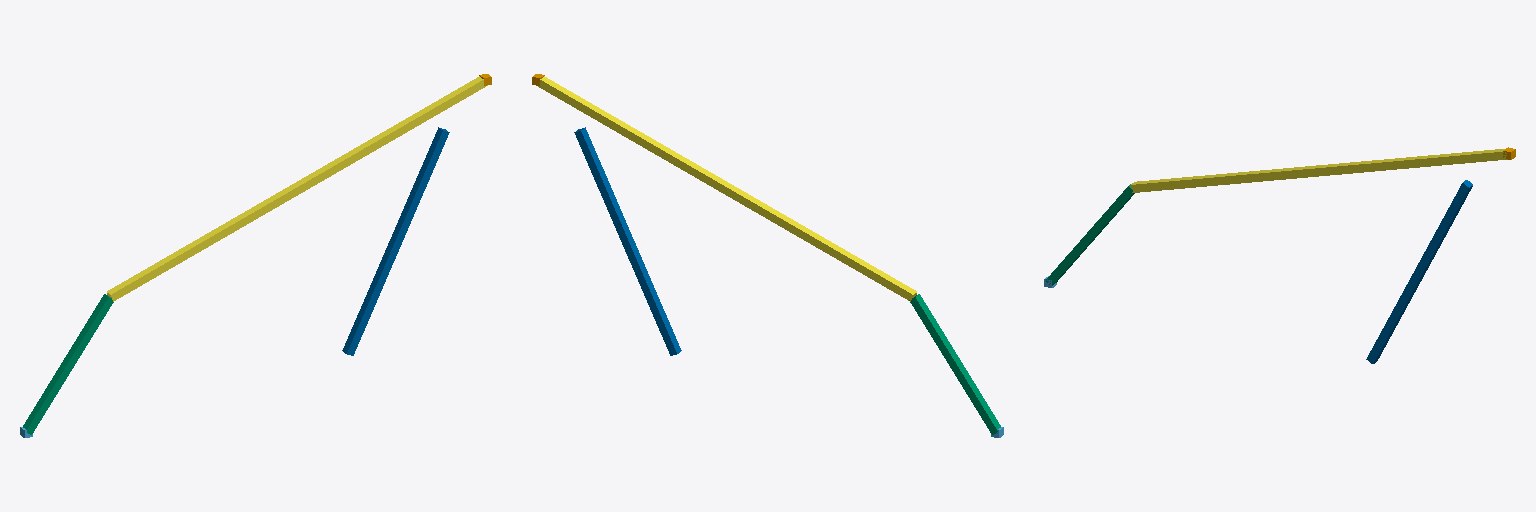
robot.urdf — UNNAMED_0:
<?xml version="1.0"?>
<robot  name="UNNAMED_0" >
 <link  name="EE" >
  <inertial >
   <origin  xyz="0.0 0.0 0.0"  rpy="0.0 0.0 0.0" />
   <mass  value="1" />
   <inertia  ixz="0"  iyy="8.333333333333335e-10"  ixx="8.333333333333335e-10"  ixy="0"  iyz="0"  izz="8.333333333333332e-14" />
  </inertial>
  <visual >
   <origin  xyz="0.0 0.0 0.0"  rpy="0.0 0.0 0.0" />
   <geometry >
    <box  size="0.1 0.1 0.1" />
   </geometry>
   <material  name="Grey" />
  </visual>
  <collision >
   <origin  xyz="0.0 0.0 0.0"  rpy="0.0 0.0 0.0" />
   <geometry >
    <box  size="0.1 0.1 0.1" />
   </geometry>
   <material  name="Grey" />
  </collision>
 </link>
 <link  name="G" >
  <inertial >
   <origin  xyz="0 0 0"  rpy="0.0 0.0 0.0" />
   <mass  value="1" />
   <inertia  ixz="0"  iyy="8.333333333333335e-10"  ixx="8.333333333333335e-10"  ixy="0"  iyz="0"  izz="8.333333333333332e-14" />
  </inertial>
  <visual >
   <origin  xyz="0 0 0"  rpy="0.0 0.0 0.0" />
   <geometry >
    <box  size="0.1 0.1 0.1" />
   </geometry>
   <material  name="Grey" />
  </visual>
  <collision >
   <origin  xyz="0 0 0"  rpy="0.0 0.0 0.0" />
   <geometry >
    <box  size="0.1 0.1 0.1" />
   </geometry>
   <material  name="Grey" />
  </collision>
 </link>
 <joint  name="J3"  type="revolute" >
  <parent  link="G" />
  <child  link="L5" />
  <origin  xyz="4.2 0.0 0.0"  rpy="0.0 0.46636282353891545 0.0" />
  <axis  xyz="0 1 0" />
  <limit  effort="2"  upper="3.141592653589793"  lower="-3.141592653589793"  velocity="10" />
  <dynamics  damping="0.05" />
 </joint>
 <joint  name="J0"  type="revolute" >
  <parent  link="G" />
  <child  link="L3" />
  <origin  xyz="0.0 0.0 0.0"  rpy="0.0 0.6482783194240893 0.0" />
  <axis  xyz="0 1 0" />
  <limit  effort="2"  upper="3.141592653589793"  lower="-3.141592653589793"  velocity="10" />
  <dynamics  damping="0.05" />
 </joint>
 <link  name="L3" >
  <inertial >
   <origin  xyz="-1.537565161624605e-16 0.0 0.9001102710223898"  rpy="0.0 0.0 0.0" />
   <mass  value="1" />
   <inertia  ixz="0"  iyy="2.7006616666666665e-07"  ixx="2.7006616666666665e-07"  ixy="0"  iyz="0"  izz="8.333333333333332e-14" />
  </inertial>
  <visual >
   <origin  xyz="-1.537565161624605e-16 0.0 0.9001102710223898"  rpy="0.0 0.0 0.0" />
   <geometry >
    <box  size="0.1 0.1 1.8002205420447797" />
   </geometry>
   <material  name="Grey" />
  </visual>
  <collision >
   <origin  xyz="-1.537565161624605e-16 0.0 0.9001102710223898"  rpy="0.0 0.0 0.0" />
   <geometry >
    <box  size="0.1 0.1 1.8002205420447797" />
   </geometry>
   <material  name="Grey" />
  </collision>
 </link>
 <joint  name="J1"  type="revolute" >
  <parent  link="L3" />
  <child  link="L4" />
  <origin  xyz="-0.0 0.0 1.80022054204478"  rpy="0.0 0.6141376081431793 0.0" />
  <axis  xyz="0 1 0" />
  <limit  effort="2"  upper="3.141592653589793"  lower="-3.141592653589793"  velocity="10" />
  <dynamics  damping="0.05" />
 </joint>
 <link  name="L4" >
  <inertial >
   <origin  xyz="3.3306690738754696e-16 0.0 2.5781191787813063"  rpy="0.0 0.0 0.0" />
   <mass  value="1" />
   <inertia  ixz="0"  iyy="2.2155661666666665e-06"  ixx="2.2155661666666665e-06"  ixy="0"  iyz="0"  izz="8.333333333333332e-14" />
  </inertial>
  <visual >
   <origin  xyz="3.3306690738754696e-16 0.0 2.5781191787813063"  rpy="0.0 0.0 0.0" />
   <geometry >
    <box  size="0.1 0.1 5.156238357562613" />
   </geometry>
   <material  name="Grey" />
  </visual>
  <collision >
   <origin  xyz="3.3306690738754696e-16 0.0 2.5781191787813063"  rpy="0.0 0.0 0.0" />
   <geometry >
    <box  size="0.1 0.1 5.156238357562613" />
   </geometry>
   <material  name="Grey" />
  </collision>
 </link>
 <joint  name="EE"  type="revolute" >
  <parent  link="L4" />
  <child  link="EE" />
  <origin  xyz="1e-15 0.0 5.156238357562613"  rpy="0.0 -1.2624159275672684 0.0" />
  <axis  xyz="0 1 0" />
  <limit  effort="2"  upper="3.141592653589793"  lower="-3.141592653589793"  velocity="10" />
  <dynamics  damping="0.05" />
 </joint>
 <link  name="L5" >
  <inertial >
   <origin  xyz="2.220446049250313e-16 0.0 1.400007321409427"  rpy="0.0 0.0 0.0" />
   <mass  value="1" />
   <inertia  ixz="0"  iyy="6.533401666666664e-07"  ixx="6.533401666666664e-07"  ixy="0"  iyz="0"  izz="8.333333333333332e-14" />
  </inertial>
  <visual >
   <origin  xyz="2.220446049250313e-16 0.0 1.400007321409427"  rpy="0.0 0.0 0.0" />
   <geometry >
    <box  size="0.1 0.1 2.8000146428188546" />
   </geometry>
   <material  name="Grey" />
  </visual>
  <collision >
   <origin  xyz="2.220446049250313e-16 0.0 1.400007321409427"  rpy="0.0 0.0 0.0" />
   <geometry >
    <box  size="0.1 0.1 2.8000146428188546" />
   </geometry>
   <material  name="Grey" />
  </collision>
 </link>
</robot>

--- What the picture shows (computed from the rendered views, not written in the file) ---
The picture shows the robot from 3 angles, left to right: view 1: azimuth 30°, elevation 25°; view 2: azimuth 150°, elevation 25°; view 3: azimuth 330°, elevation 25°; orthographic projection.
Model UNNAMED_0 with 5 links and 4 joints (4 revolute), rooted at G, posed every joint at zero.
Links seen in each view (by area): view 1: L4, L5, L3; view 2: L4, L5, L3; view 3: L4, L5, L3.
Boxes of the visible links, bbox=[...] form: L4: bbox=[107, 76, 487, 301]; L5: bbox=[342, 127, 449, 355]; L3: bbox=[23, 294, 113, 434]; L4: bbox=[538, 76, 916, 301]; L5: bbox=[574, 127, 681, 355]; L3: bbox=[909, 294, 1000, 434]; L4: bbox=[1130, 149, 1507, 192]; L5: bbox=[1366, 180, 1472, 363]; L3: bbox=[1046, 184, 1134, 285].
Bounding box of the posed robot: 6.1 × 0.1 × 3.1 m (x, y, z).
Geometry: primitives only (box / cylinder / sphere), no mesh files.
